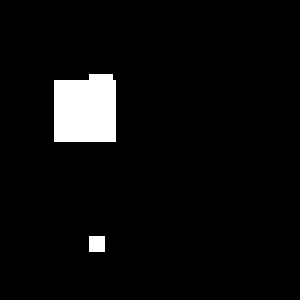circle: (54, 80, 116, 142), (89, 74, 113, 98), (89, 236, 105, 252)
